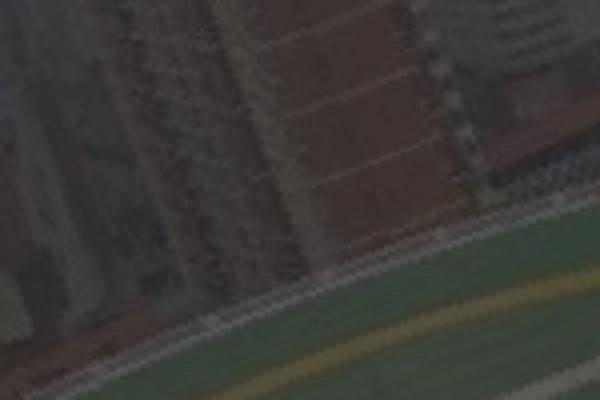Apron: (142, 264, 600, 400)
